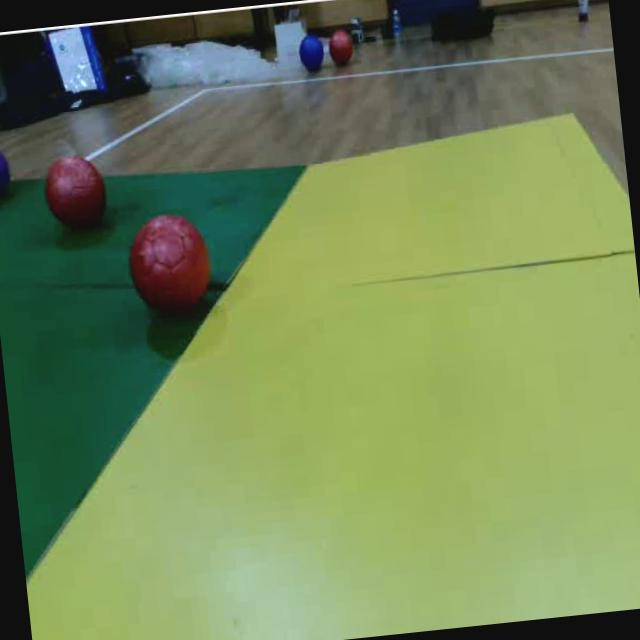blue_ball: (296, 32, 328, 76)
purple_ball: (0, 137, 12, 203)
red_ball: (120, 206, 219, 328), (40, 152, 110, 242), (326, 27, 354, 69)
